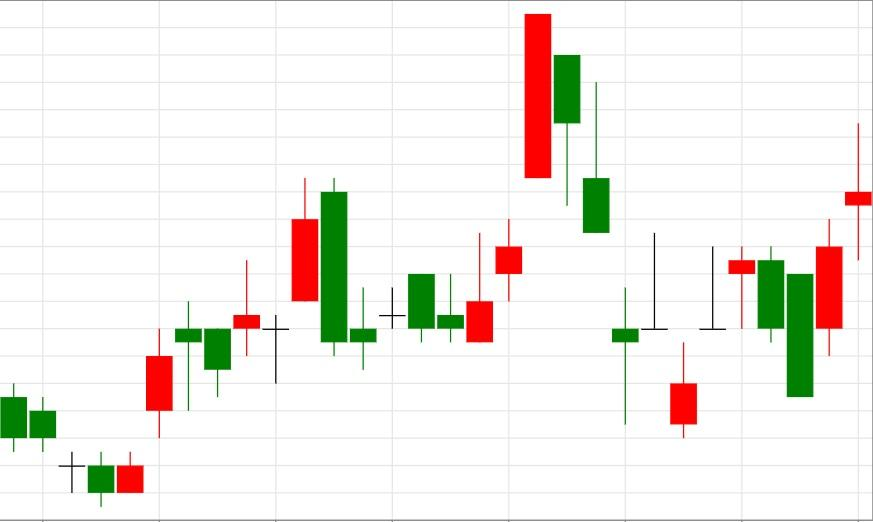bearish_engulfing_fall: (87, 178, 348, 507), (669, 245, 785, 439)
